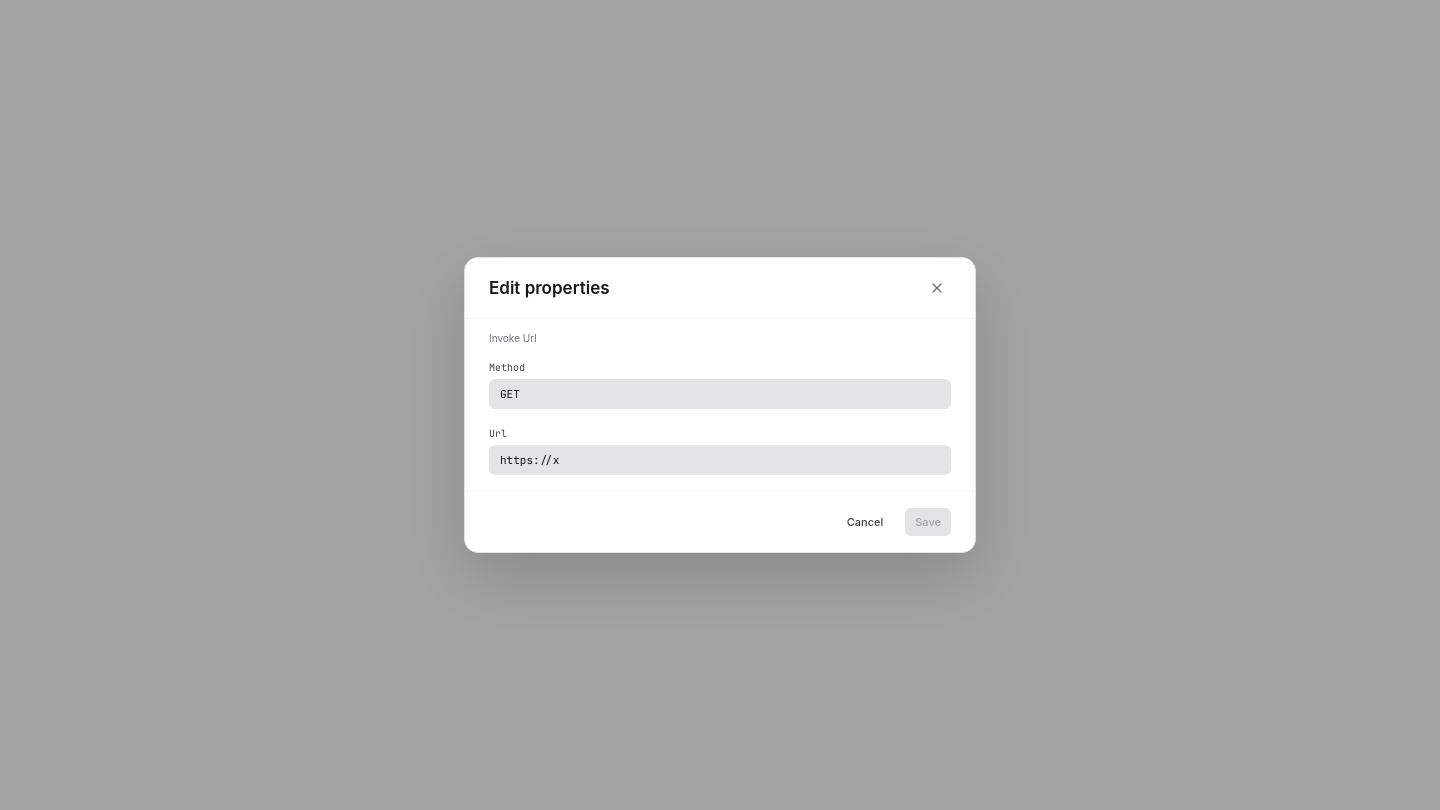
Test: BlockPropertiesModal (R3-2) › Save is disabled until a value changes; label reflects the change count
Check: the button "Save" is disabled, box [905,508,951,536]
Replace the text in the field named "Value for Url" with "https://y" at (720, 460), box [489,445,951,475]
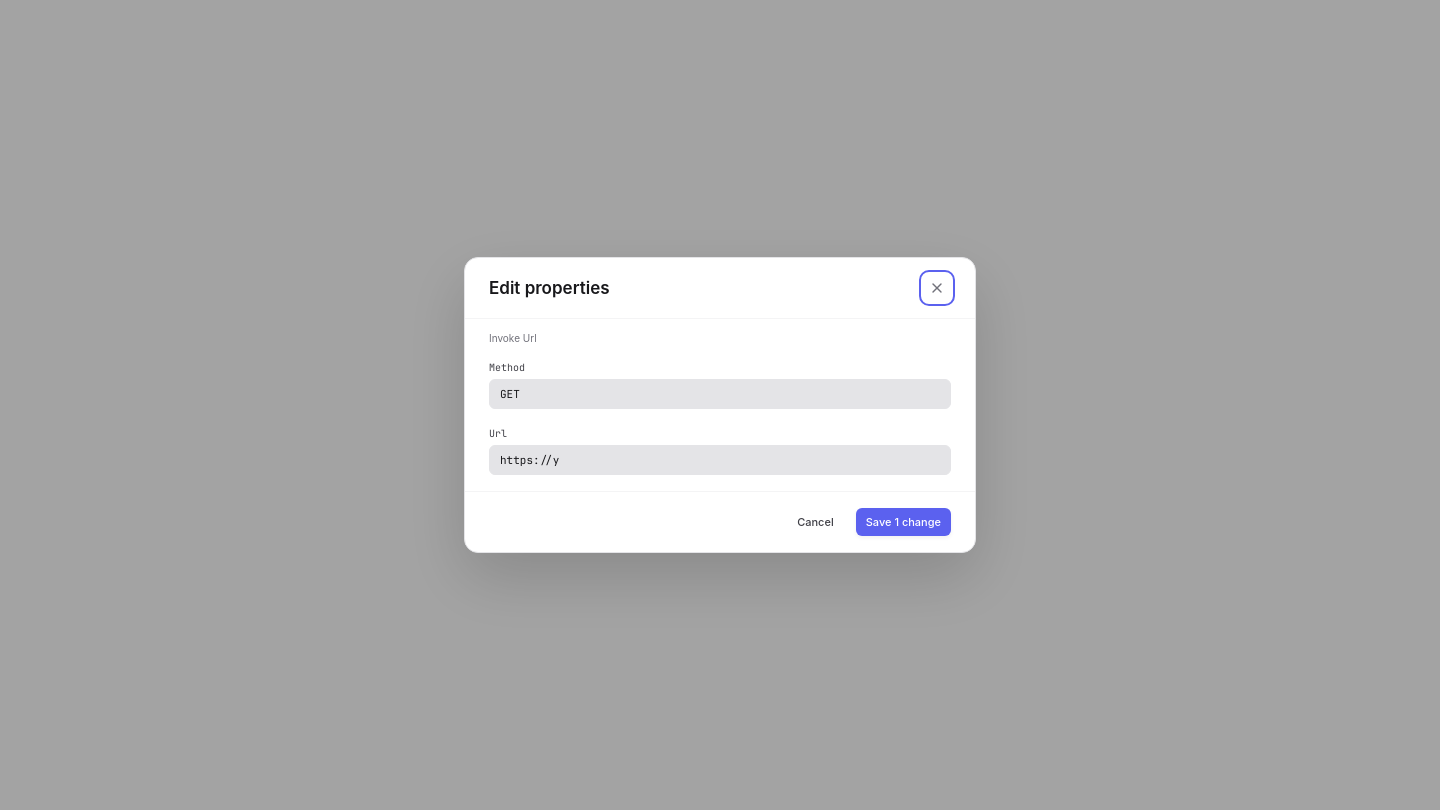
Check: the button "Save 1 change" is enabled, box [856,508,951,536]
